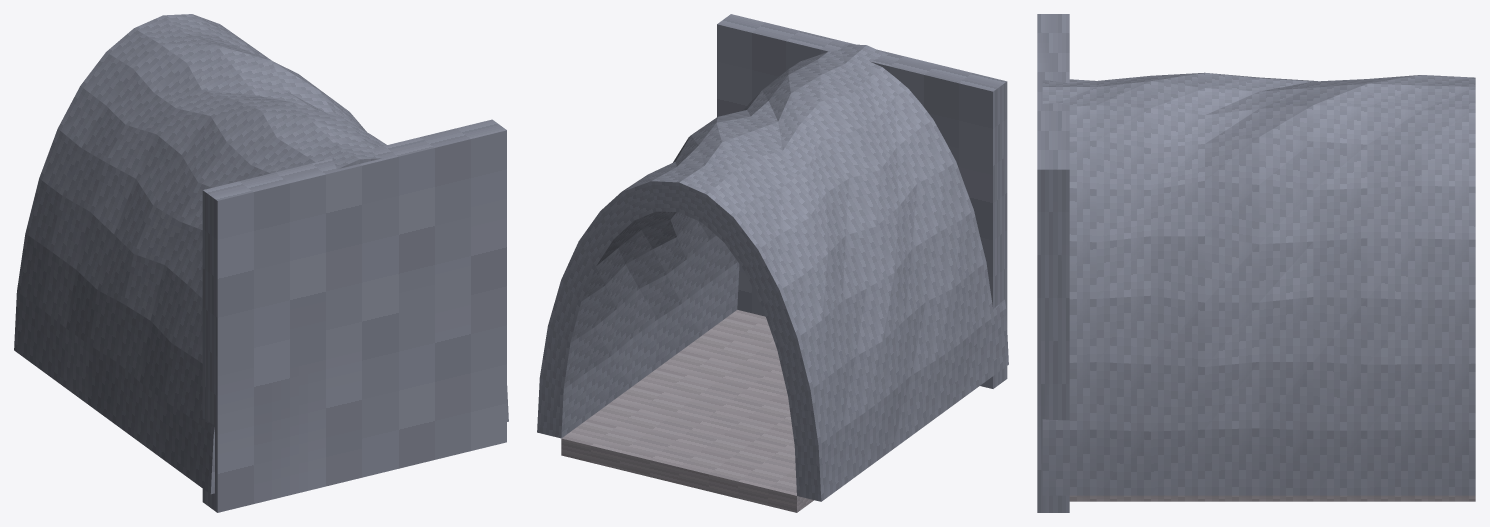
The model's file is cave-and-crystal-networks-dead-end-0c8550f6.glb.
3 views of the same model, side by side, from view 1: azimuth 30°, elevation 25°; view 2: azimuth 150°, elevation 25°; view 3: azimuth 270°, elevation 25° (orthographic). The views are drawn at different scales.
Visible parts, largest first — view 1: dead-end; view 2: dead-end; view 3: dead-end.
Part boxes in pixels (x1,y1,x2,y2): dead-end: (14, 14, 508, 512); dead-end: (537, 14, 1008, 512); dead-end: (1037, 14, 1475, 512).
Size of the model in its own units: 3.5 by 3.61 by 4.05.
Materials: 2 (2 with a texture image).
